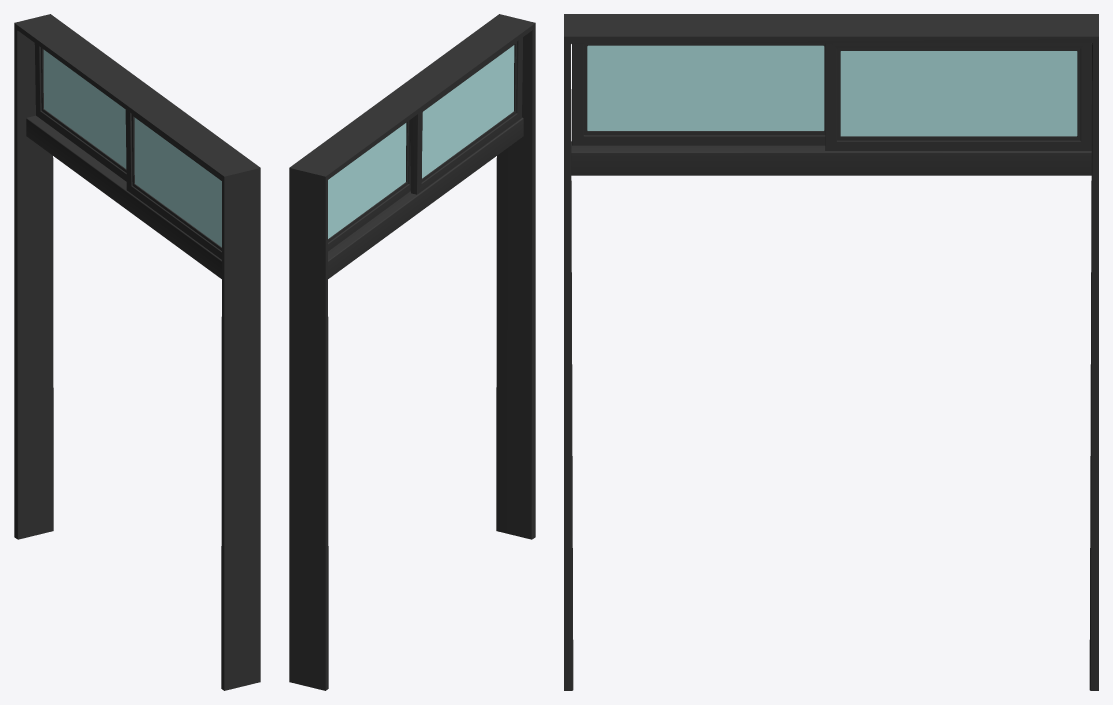
Rendered from SM_Partition_Doorless.fbx.
3 views of the same model, side by side, from view 1: azimuth 30°, elevation 25°; view 2: azimuth 150°, elevation 25°; view 3: azimuth 270°, elevation 25° (orthographic). The views are drawn at different scales.
Parts seen in each view (by area): view 1: SM_Partition_Doorless_LOD0; view 2: SM_Partition_Doorless_LOD0; view 3: SM_Partition_Doorless_LOD0.
Boxes of the visible parts, x1=… form: SM_Partition_Doorless_LOD0: x1=14, y1=14, x2=260, y2=690; SM_Partition_Doorless_LOD0: x1=289, y1=14, x2=535, y2=690; SM_Partition_Doorless_LOD0: x1=564, y1=14, x2=1098, y2=690.
Size of the model in its own units: 20 by 200 by 270.
